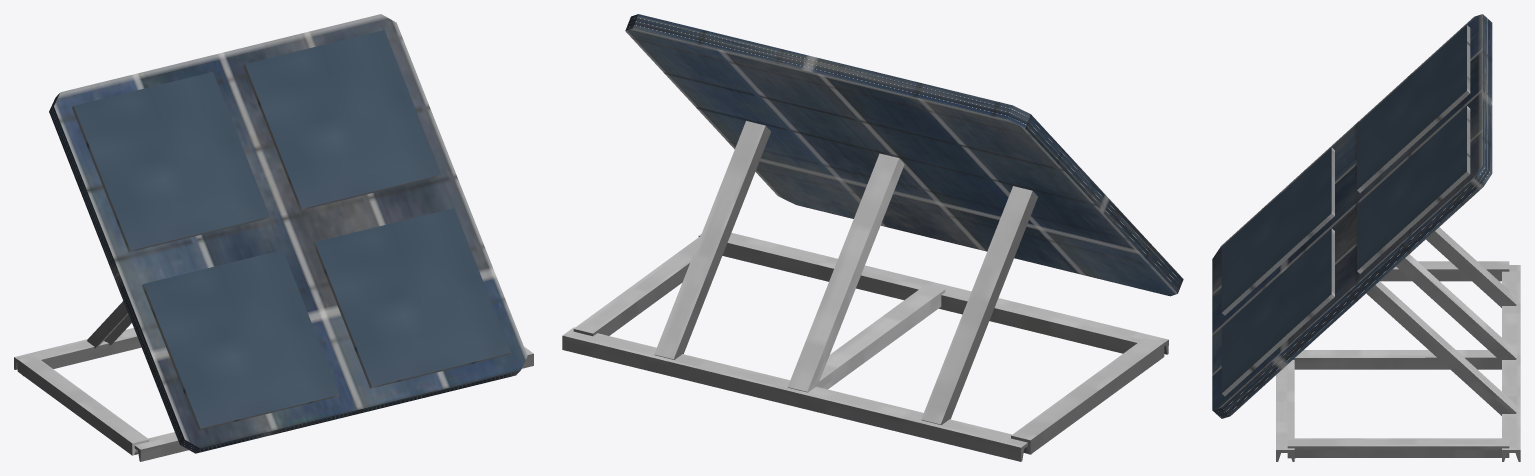
The model's file is prop-solar-panels.fbx.
3 renders of one model, left to right at view 1: azimuth 30°, elevation 25°; view 2: azimuth 150°, elevation 25°; view 3: azimuth 270°, elevation 25°, orthographic. The views are drawn at different scales.
Visible parts, largest first — view 1: antenna35.078; view 2: antenna35.078; view 3: antenna35.078.
Part boxes in pixels (left/top/right/bottom): antenna35.078: left=14, top=14, right=533, bottom=461; antenna35.078: left=562, top=14, right=1183, bottom=461; antenna35.078: left=1212, top=14, right=1520, bottom=461.
Size of the model in its own units: 271 by 186 by 189.
